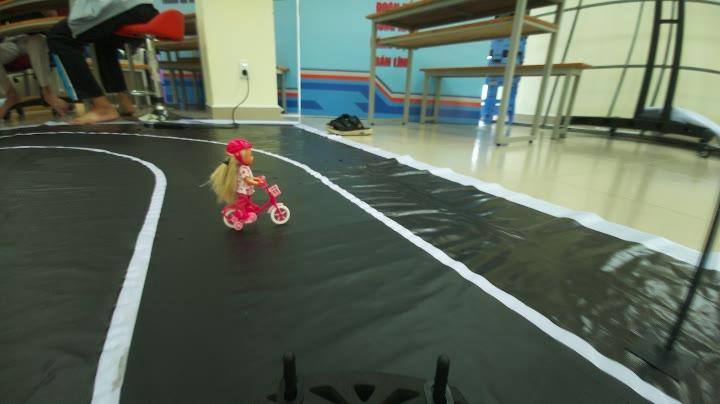pedestrian: (200, 144, 300, 230)
